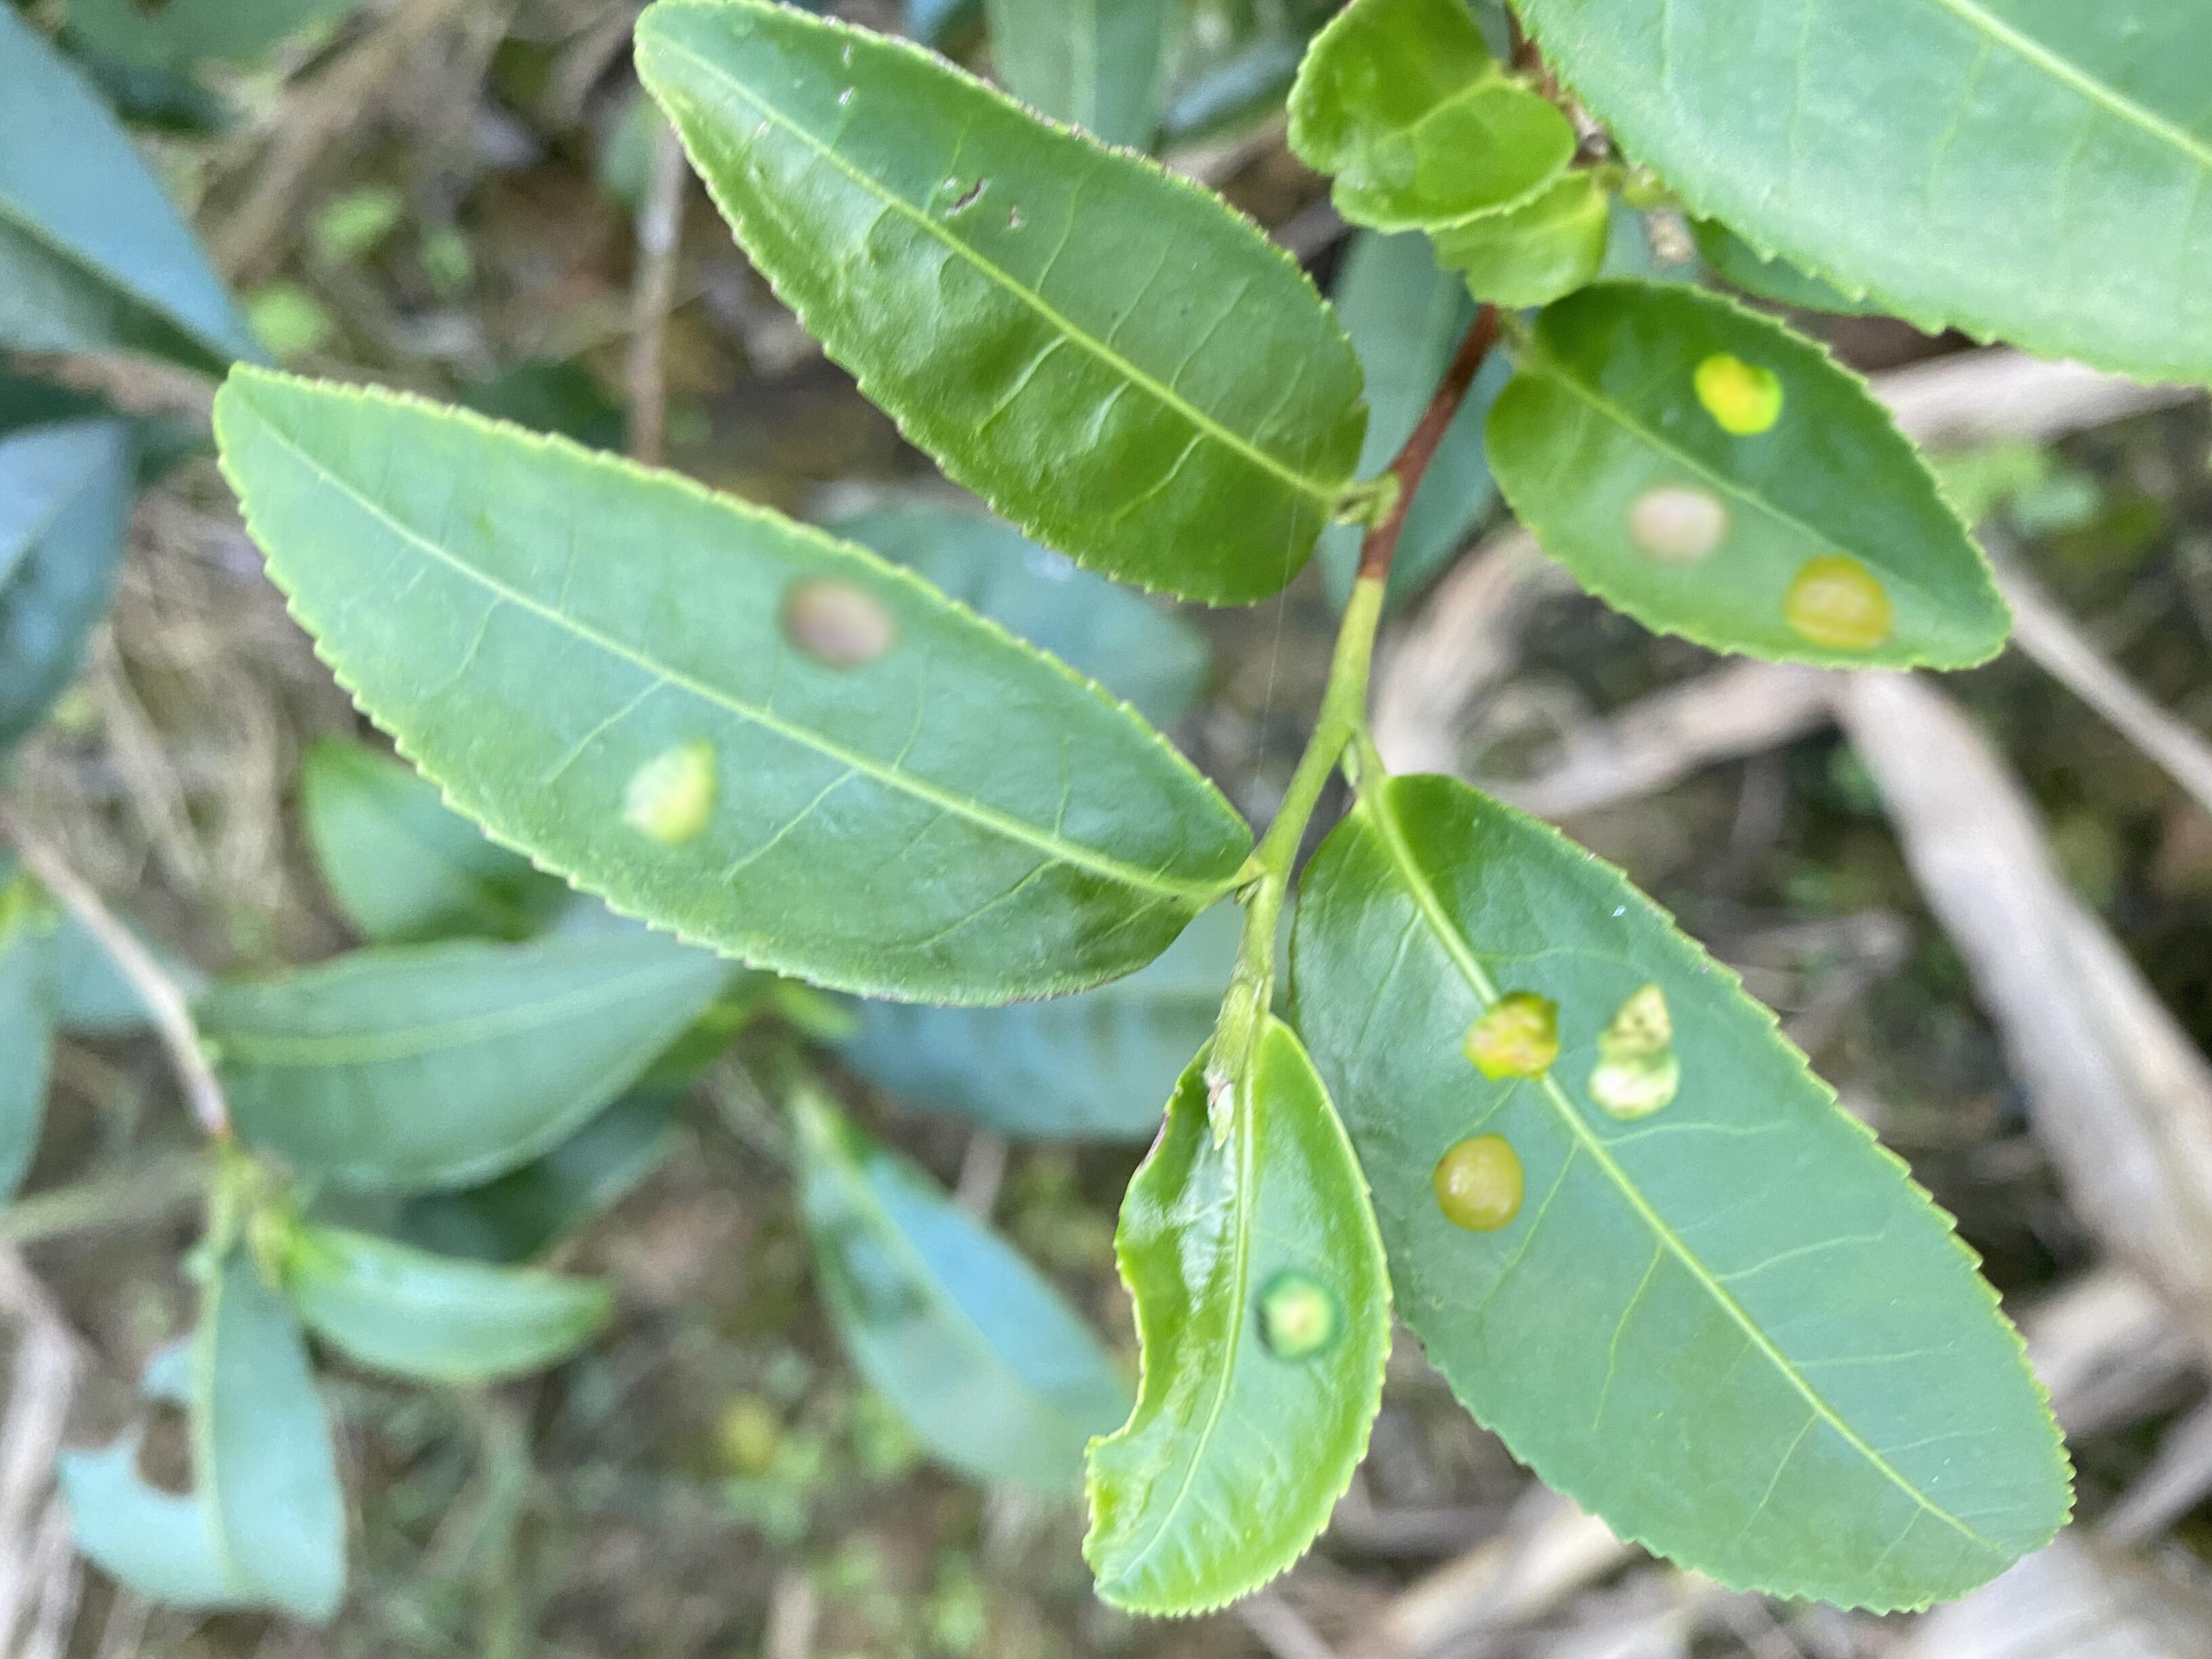chabing_high: (209, 357, 1256, 1004), (1289, 769, 2078, 1617), (1480, 284, 2013, 676)
chabing_low: (1076, 1009, 1399, 1628)
